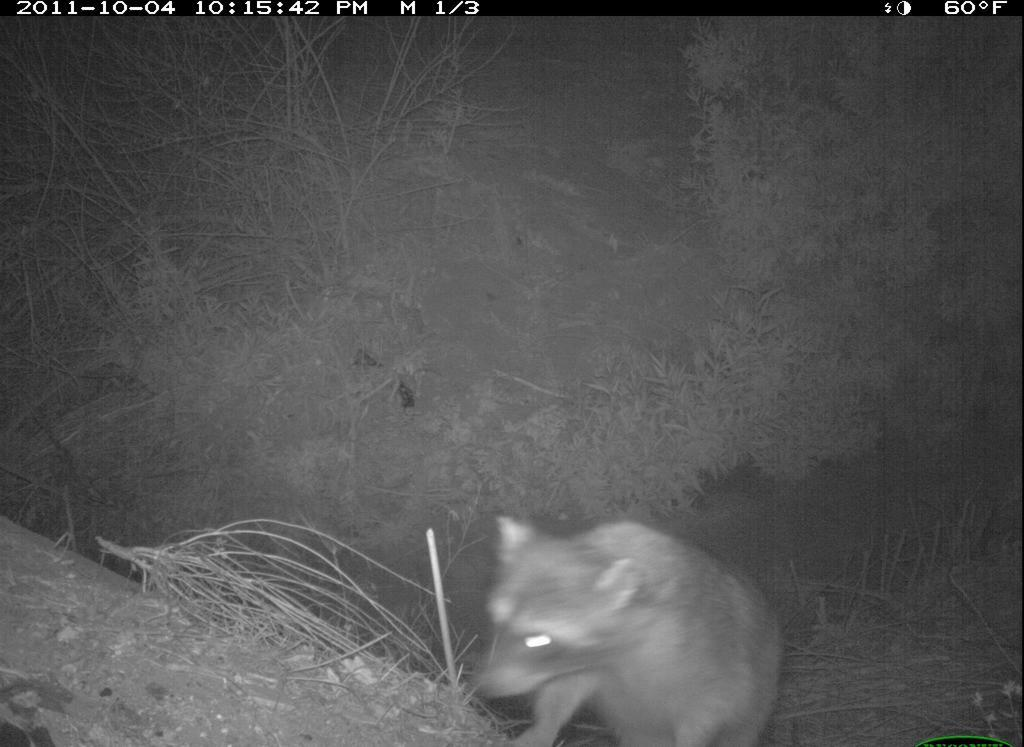raccoon: (468, 501, 811, 747)
